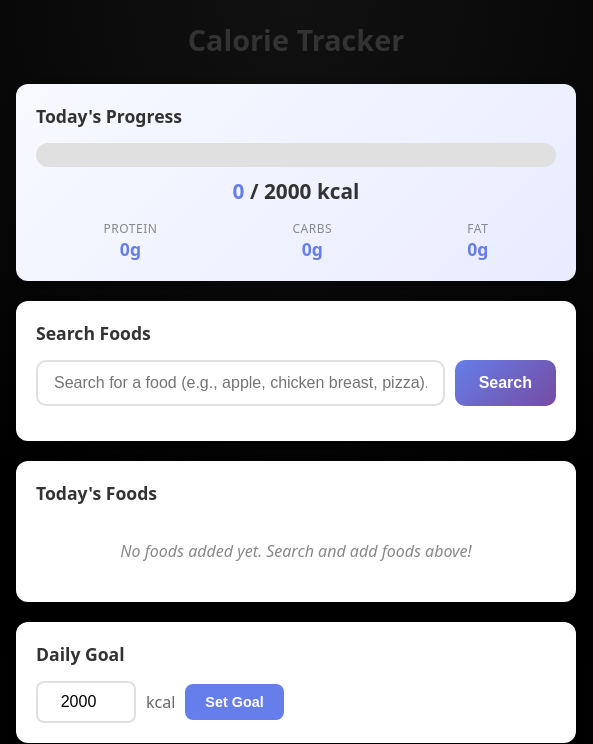
Test: CaloriesScreen › Search Functionality › shows loading state during search
In the field with placeholder "Search for a food (e.g., apple, chicken breast, pizza)...": (240, 383) [36, 360, 445, 406], type "apple"
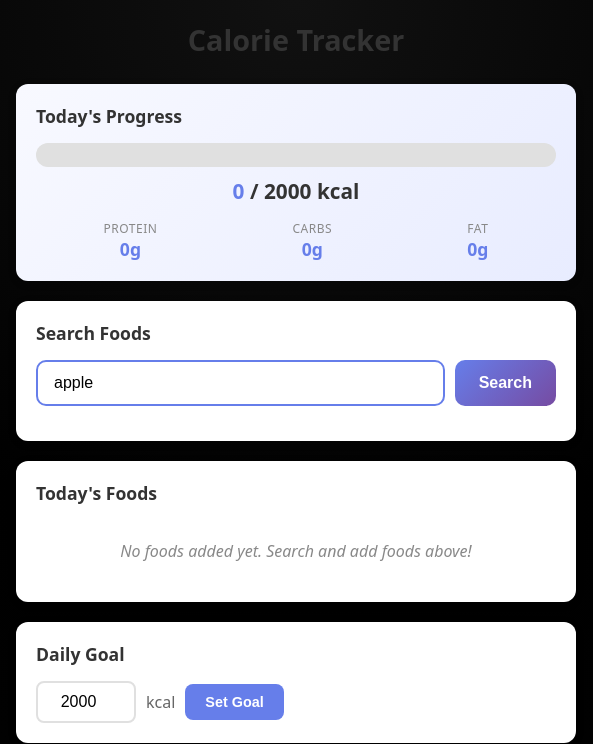
Click the button "Search": (505, 383) [455, 360, 556, 406]
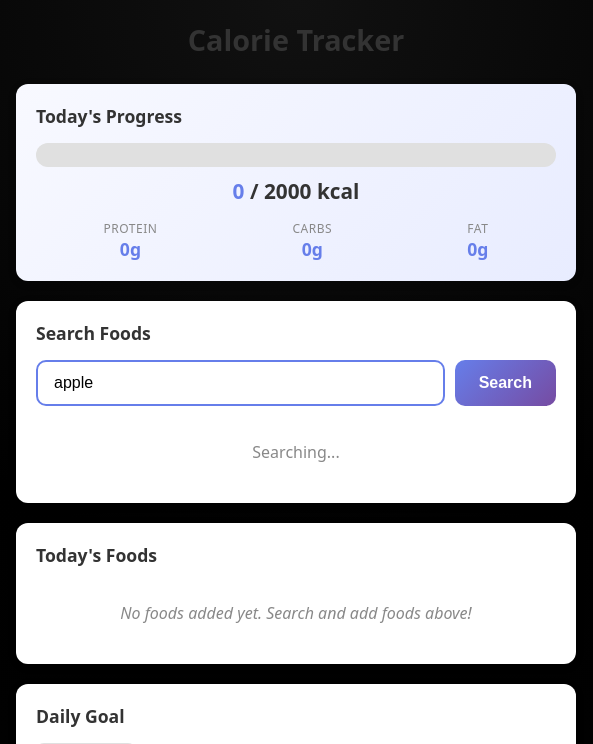
Expected: the text "Searching..." is shown, [252, 441, 340, 463]
